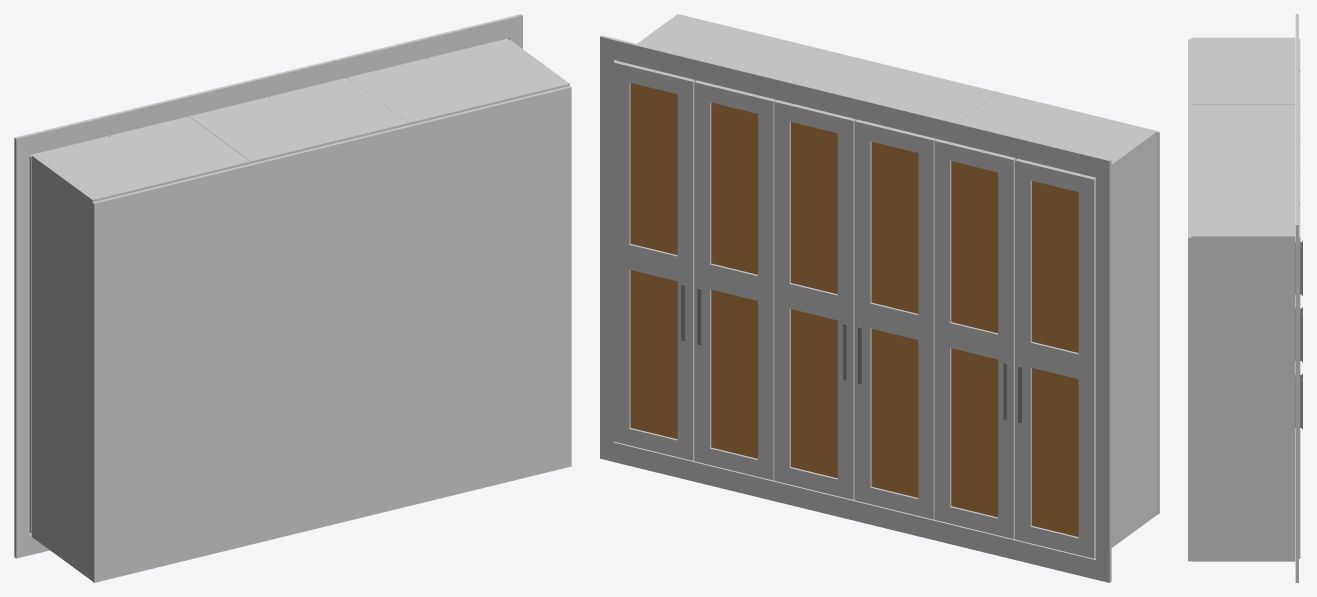
The model's file is Wardrobe.FBX.
3 views of the same model, side by side, from view 1: azimuth 30°, elevation 25°; view 2: azimuth 150°, elevation 25°; view 3: azimuth 270°, elevation 25° (orthographic). The views are drawn at different scales.
Parts seen in each view (by area): view 1: Wardrobe, door6; view 2: Wardrobe, door1, door3, door6, door2, door4, door5; view 3: Wardrobe, door1, door5, door3.
Part boxes in pixels (box(x1,y1,x2,y2)): Wardrobe: box(14, 14, 571, 582); door6: box(29, 136, 107, 533); Wardrobe: box(600, 14, 1159, 582); door1: box(613, 60, 695, 460); door3: box(774, 100, 855, 499); door6: box(1015, 158, 1095, 558); door2: box(694, 80, 775, 480); door4: box(854, 119, 936, 519); door5: box(934, 139, 1015, 538); Wardrobe: box(1188, 14, 1298, 582); door1: box(1295, 204, 1302, 558); door5: box(1295, 72, 1302, 296); door3: box(1295, 138, 1302, 362).
Bounding box in the file's own units: 3132 × 720 × 2478.
